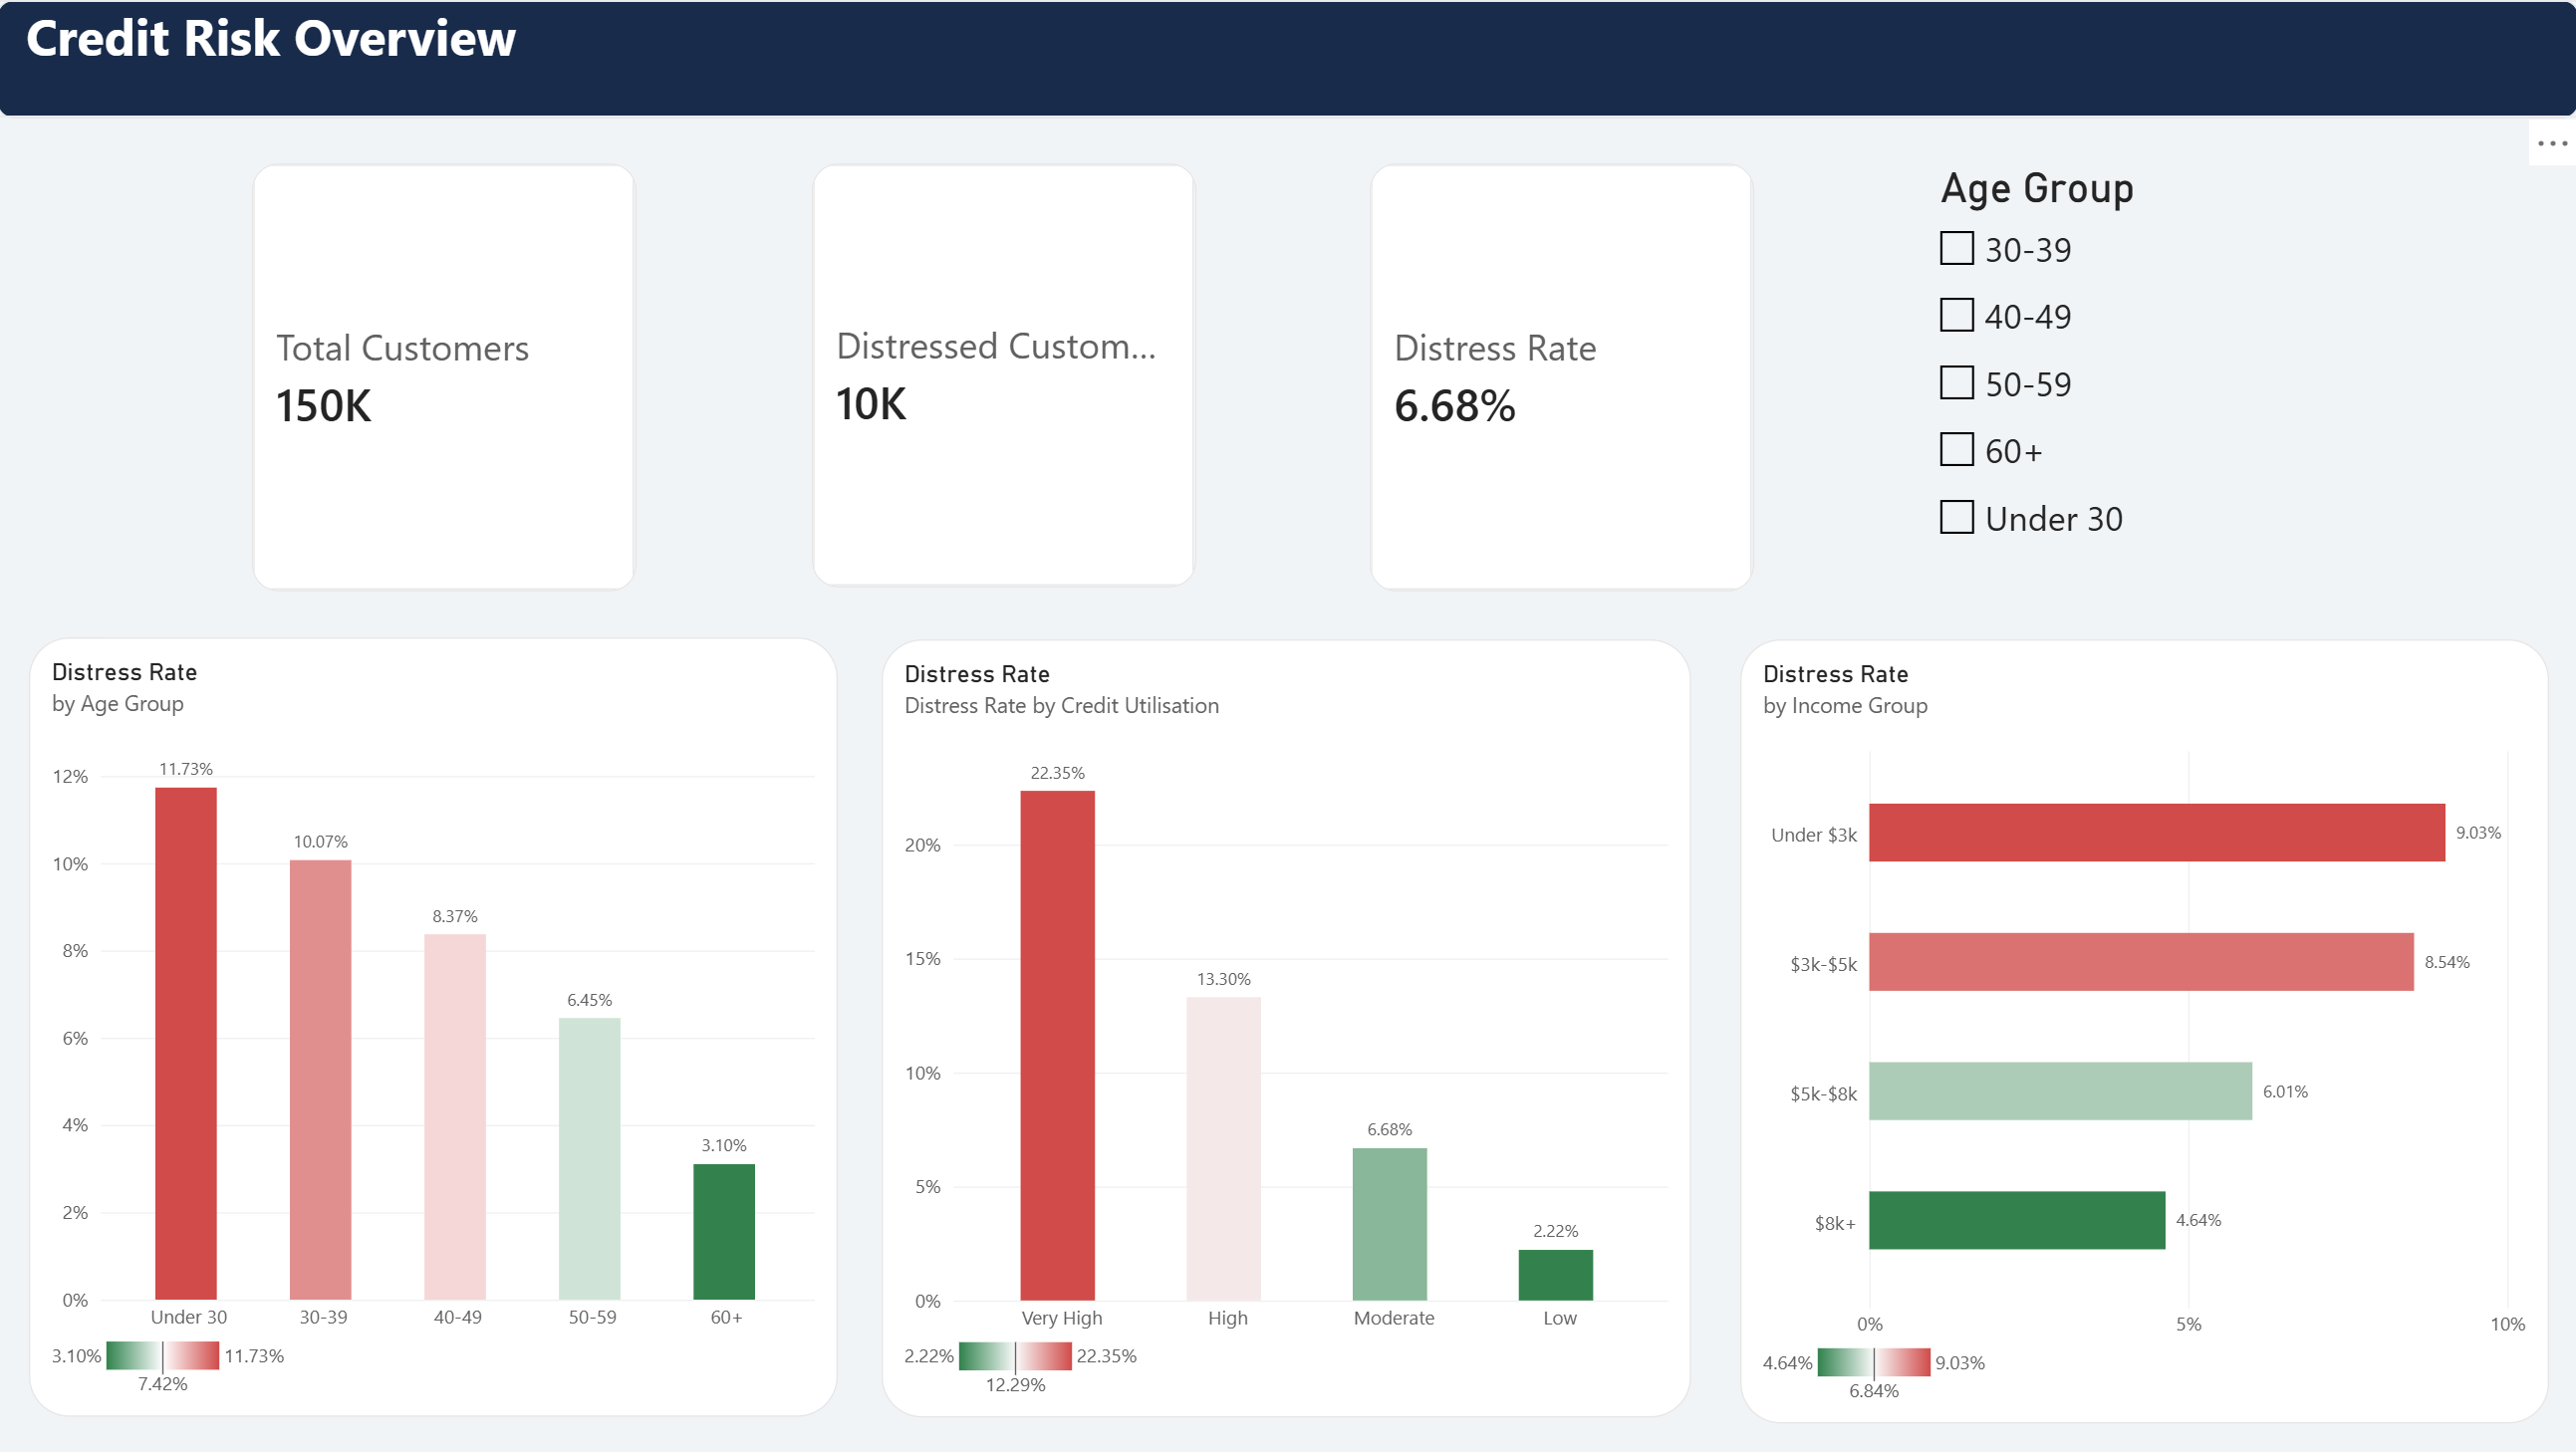

What the dashboard file says about the page in this screenshot:
{"tool":"powerbi","page":{"name":"Overview","canvas":[1920,1080],"ordinal":0},"visuals":[{"type":"textbox","box":[0,0,1920,88],"z":0},{"type":"cardVisual","fields":{"Data":["credit_risk_cleaned.Total Customers"]},"box":[190,122,285.9,318.3],"z":0,"group":"g1"},{"type":"clusteredColumnChart","title":"Distress Rate","fields":{"Category":["credit_risk_cleaned.Utilisation Band"],"Y":["credit_risk_cleaned.Distress Rate"]},"box":[658,476,602,578],"z":0,"group":"g2"},{"type":"group","id":"g1","title":"Group 2","box":[190,122,1600,320],"z":1000},{"type":"cardVisual","fields":{"Data":["credit_risk_cleaned.Distressed Customers"]},"box":[605.6,122,285.9,315.6],"z":1000,"group":"g1"},{"type":"clusteredBarChart","fields":{"Category":["credit_risk_cleaned.Income Group"],"Y":["credit_risk_cleaned.Distress Rate"]},"box":[1296,476,601.3,582.4],"z":1000,"group":"g2"},{"type":"cardVisual","fields":{"Data":["credit_risk_cleaned.Distress Rate"]},"box":[1021.3,122,285.9,318.3],"z":2000,"group":"g1"},{"type":"clusteredColumnChart","fields":{"Category":["credit_risk_cleaned.Age Group"],"Y":["credit_risk_cleaned.Distress Rate"]},"box":[24,474,601.3,578.9],"z":2000,"group":"g2"},{"type":"group","id":"g2","title":"Group 1","box":[24,474,1874,584],"z":2000},{"type":"slicer","fields":{"Values":["credit_risk_cleaned.Age Group"]},"box":[1436.9,122.5,353.6,319.4],"z":3000,"group":"g1"}]}

Visuals, with their boxes in screenshot pixels (x1, y1, x2, y2), scaled from the page's 1920x1080 canvas onto the 2576x1452 screenshot:
textbox: (0,0,2575,119)
cardVisual - credit_risk_cleaned.Total Customers: (255,164,639,592)
"Distress Rate" clusteredColumnChart: (883,640,1690,1417)
"Group 2" group: (255,164,2402,595)
cardVisual - credit_risk_cleaned.Distressed Customers: (813,164,1196,589)
clusteredBarChart - credit_risk_cleaned.Income Group x credit_risk_cleaned.Distress Rate: (1739,640,2545,1423)
cardVisual - credit_risk_cleaned.Distress Rate: (1371,164,1754,592)
clusteredColumnChart - credit_risk_cleaned.Age Group x credit_risk_cleaned.Distress Rate: (32,637,839,1415)
"Group 1" group: (32,637,2546,1422)
slicer - credit_risk_cleaned.Age Group: (1928,164,2403,595)
